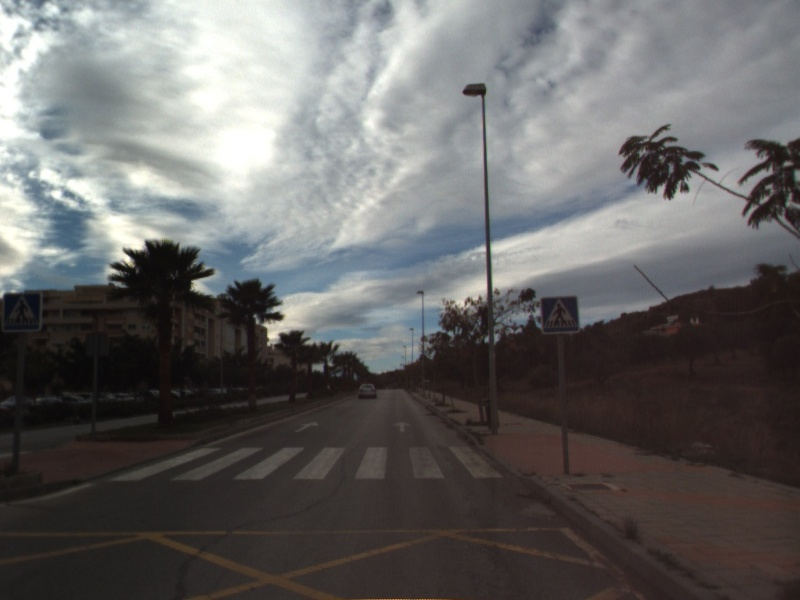STRAIGHT: (293, 419, 321, 434), (391, 419, 413, 434)
